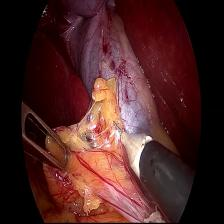Grasper: (22, 98, 76, 187)
Hook: (108, 112, 156, 179)
